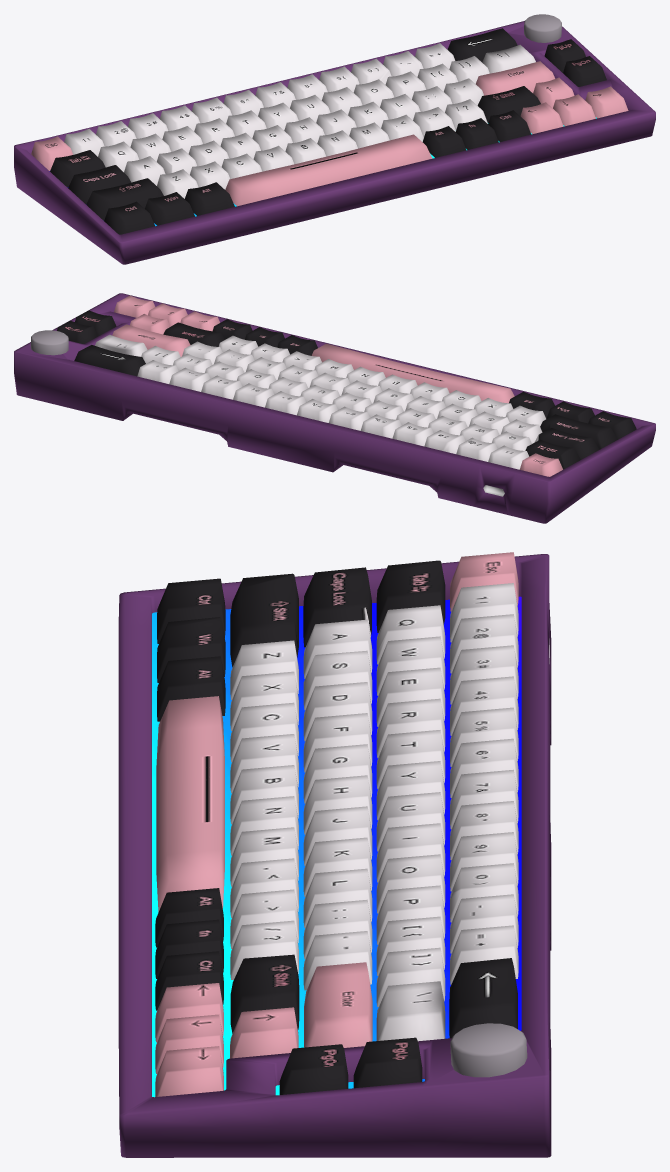
Rendered from keyboard.glb.
3 views of the same model, one above another, from view 1: azimuth 30°, elevation 25°; view 2: azimuth 150°, elevation 25°; view 3: azimuth 270°, elevation 25° (orthographic). The views are drawn at different scales.
Parts seen in each view (by area): view 1: Keyboard.001, Key Space.001, Key LeftShift.001, Key Enter.001, Key Back.001, Key CapsLock.001, Key RightShift.001, Key LeftCtrl.001, Key Win.001, Key LeftAlt.001, Key Tab.001, \.001 (+56 smaller); view 2: Keyboard.001, Key Space.001, Key Back.001, Key LeftShift.001, Key Enter.001, Key CapsLock.001, Circle.002, Key RightShift.001, Key Tab.001, Key LeftCtrl.001, Key Escape.001, \.001 (+56 smaller); view 3: Keyboard.001, RGB.002, Key Space.001, Key Enter.001, Key LeftShift.001, Key Back.001, \.001, Key RightShift.001, Key CapsLock.001, Circle.002, Key Tab.001, right.001 (+57 smaller).
Part boxes in pixels (x1,y1,x2,y2): Keyboard.001: (14, 21, 655, 264); Key Space.001: (225, 134, 432, 206); Key LeftShift.001: (86, 178, 163, 220); Key Enter.001: (476, 61, 555, 95); Key Back.001: (447, 28, 517, 62); Key CapsLock.001: (68, 165, 131, 204); Key RightShift.001: (477, 86, 540, 122); Key LeftCtrl.001: (104, 201, 154, 234); Key Win.001: (145, 192, 194, 225); Key LeftAlt.001: (185, 182, 234, 215); Key Tab.001: (50, 150, 105, 187); \.001: (482, 44, 535, 73); Keyboard.001: (14, 293, 655, 523); Key Space.001: (311, 343, 514, 403); Key Back.001: (74, 345, 145, 376); Key LeftShift.001: (540, 414, 617, 449); Key Enter.001: (112, 324, 190, 356); Key CapsLock.001: (534, 428, 599, 459); Circle.002: (30, 330, 68, 355); Key RightShift.001: (163, 322, 224, 346); Key Tab.001: (525, 439, 580, 469); Key LeftCtrl.001: (588, 411, 636, 439); Key Escape.001: (519, 453, 562, 476); \.001: (95, 334, 147, 356); Keyboard.001: (118, 554, 551, 1157); RGB.002: (152, 596, 521, 1097); Key Space.001: (156, 696, 224, 912); Key Enter.001: (304, 962, 372, 1047); Key LeftShift.001: (230, 573, 298, 667); Key Back.001: (449, 958, 517, 1038); \.001: (376, 981, 445, 1041); Key RightShift.001: (230, 954, 299, 1033); Key CapsLock.001: (303, 567, 371, 647); Circle.002: (450, 1023, 527, 1077); Key Tab.001: (376, 560, 445, 632); right.001: (155, 1046, 223, 1096).
Bounding box in the file's own units: 0.4444 × 0.0409 × 0.1552.
1 material, 1 textured.
